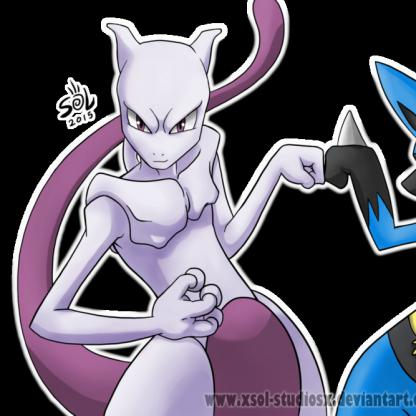Mewtwo: (27, 1, 331, 416)
